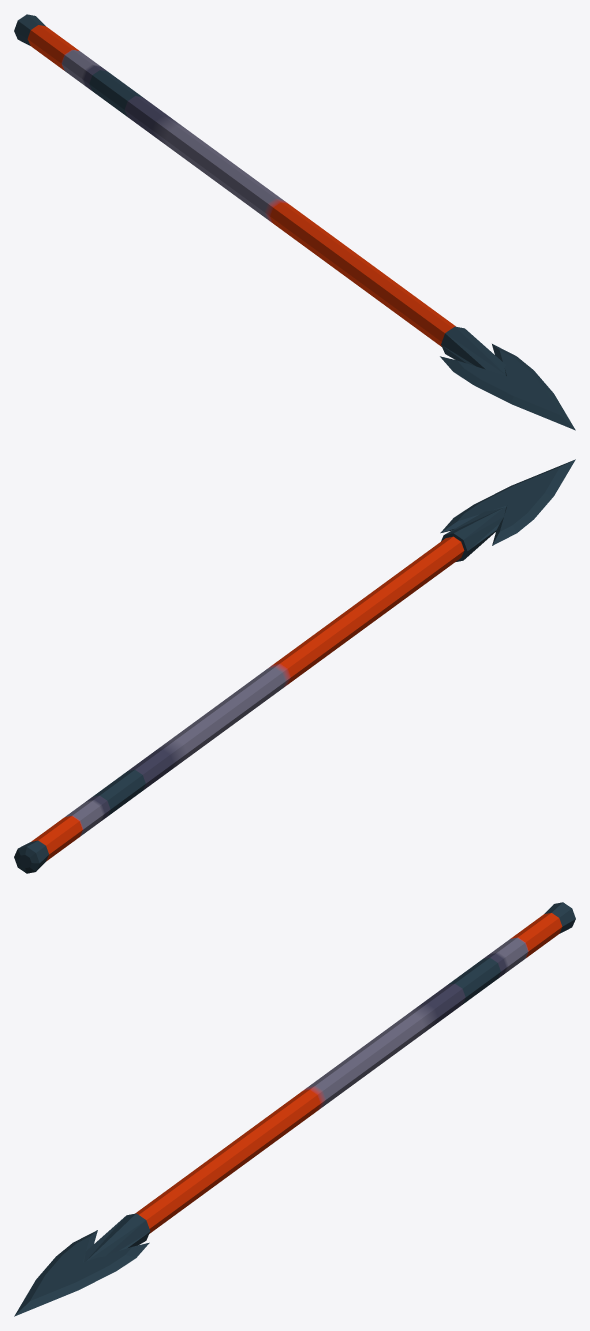
File: SFFA_Arrow_Gold_002.fbx
The picture shows the model from 3 angles, top to bottom: view 1: azimuth 30°, elevation 25°; view 2: azimuth 150°, elevation 25°; view 3: azimuth 330°, elevation 25°; orthographic projection.
Visible parts, largest first — view 1: SFFA_Arrow_Gold_002; view 2: SFFA_Arrow_Gold_002; view 3: SFFA_Arrow_Gold_002.
Boxes of the visible parts, x1,y1,x2,y2 form: SFFA_Arrow_Gold_002: [14, 14, 575, 430]; SFFA_Arrow_Gold_002: [14, 459, 575, 873]; SFFA_Arrow_Gold_002: [14, 902, 575, 1316].
Size of the model in its own units: 4.76 by 2.1 by 71.57.
